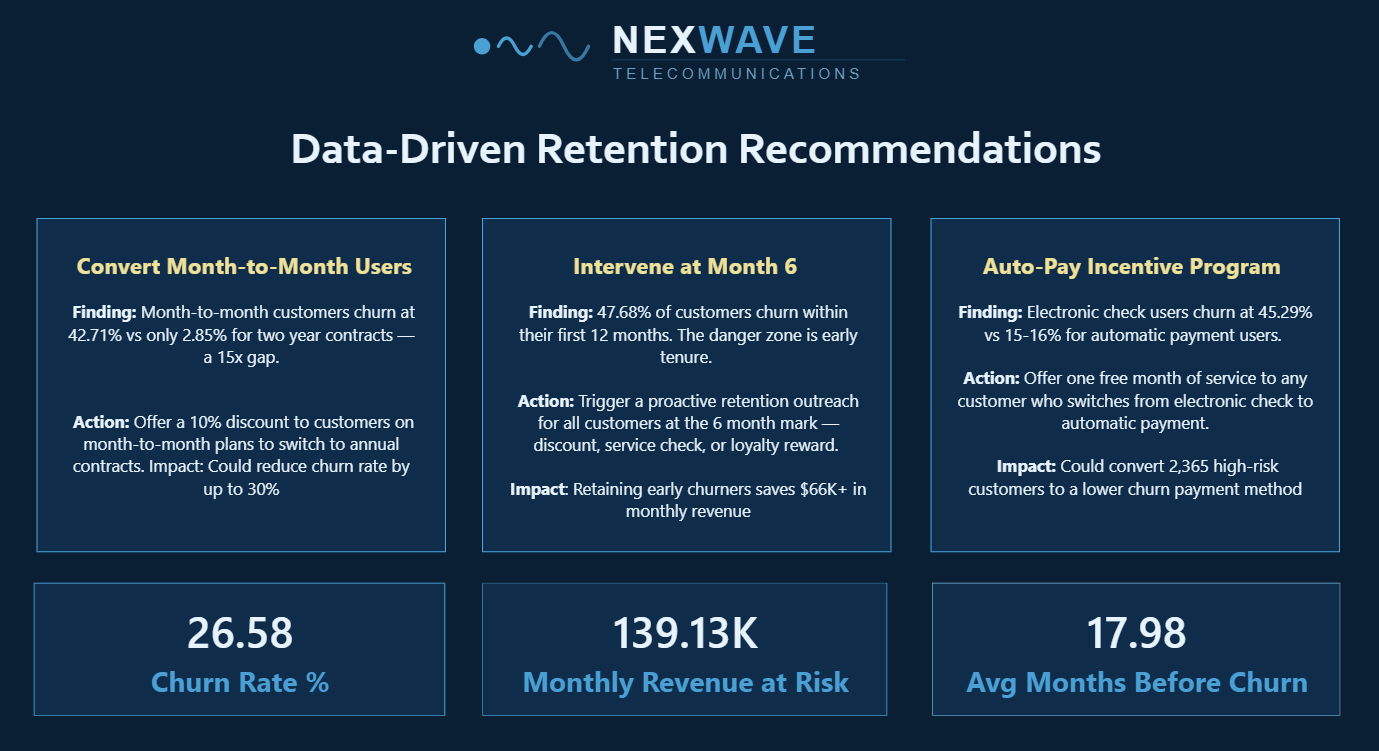

The page's visual inventory and layout, read from the dashboard file:
{"tool":"powerbi","page":{"name":"Recommendation","canvas":[1280,720],"ordinal":2},"visuals":[{"type":"image","box":[1.7,0,1278.3,130],"z":0},{"type":"textbox","box":[1.7,130,1278.3,53.3],"z":1},{"type":"shape","box":[21.7,228.3,390,318.3],"z":2},{"type":"shape","box":[445,228.3,390,318.3],"z":3},{"type":"shape","box":[873.3,228.3,390,318.3],"z":4},{"type":"textbox","box":[41.7,253.3,350,281.7],"z":5},{"type":"textbox","box":[466.7,253.3,350,281.7],"z":6},{"type":"textbox","box":[893.3,253.3,350,281.7],"z":7},{"type":"cardVisual","fields":{"Data":["telco_churn_cleaned.Churn Rate %"]},"box":[1.7,558.3,426.7,161.7],"z":8},{"type":"cardVisual","fields":{"Data":["telco_churn_cleaned.Monthly Revenue at Risk"]},"box":[428.3,558.3,420,161.7],"z":9},{"type":"cardVisual","fields":{"Data":["telco_churn_cleaned.Avg Tenure Churned"]},"box":[856.7,558.3,423.3,161.7],"z":10}]}

Visuals, with their boxes on the page's 1280x720 design canvas (x1, y1, x2, y2). These are canvas units, not pixel positions in the 1379x751 screenshot, which may show the page scaled, cropped or inside an application window:
image: rect(2, 0, 1280, 130)
textbox: rect(2, 130, 1280, 183)
shape: rect(22, 228, 412, 547)
shape: rect(445, 228, 835, 547)
shape: rect(873, 228, 1263, 547)
textbox: rect(42, 253, 392, 535)
textbox: rect(467, 253, 817, 535)
textbox: rect(893, 253, 1243, 535)
cardVisual - telco_churn_cleaned.Churn Rate %: rect(2, 558, 428, 720)
cardVisual - telco_churn_cleaned.Monthly Revenue at Risk: rect(428, 558, 848, 720)
cardVisual - telco_churn_cleaned.Avg Tenure Churned: rect(857, 558, 1280, 720)
